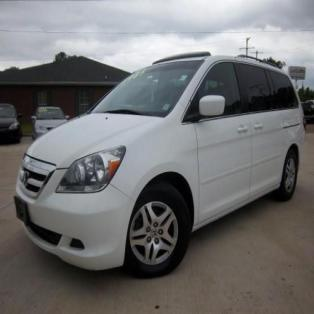Auto: (15, 52, 306, 280)
